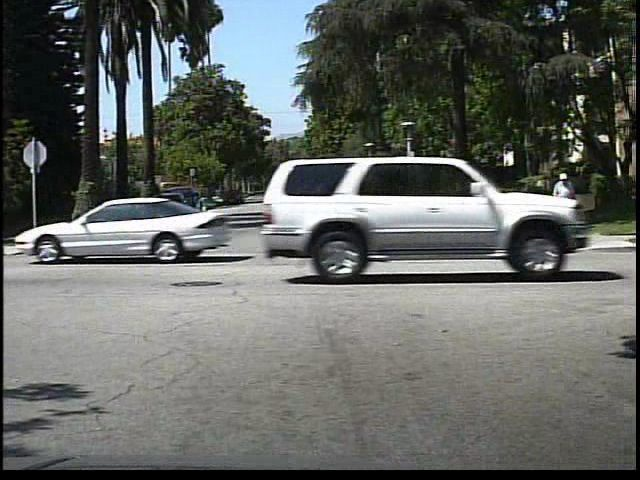person: (556, 167, 579, 233)
